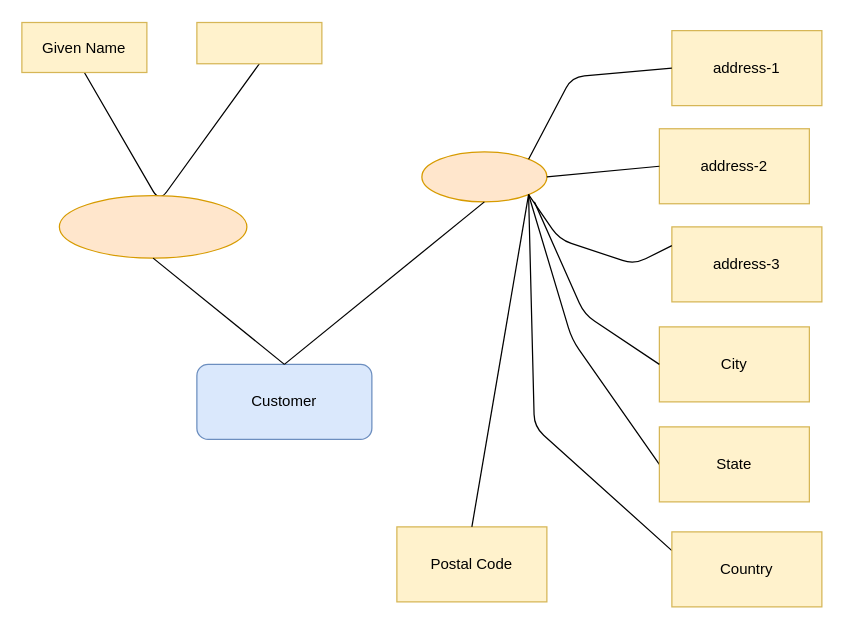
Image size: 844x629. Some labels were removed from this diagram. The centre of each missing label's shape, as x and y in pixels:
address: (484,176)
Last Name: (259,42)
Name: (152,226)
